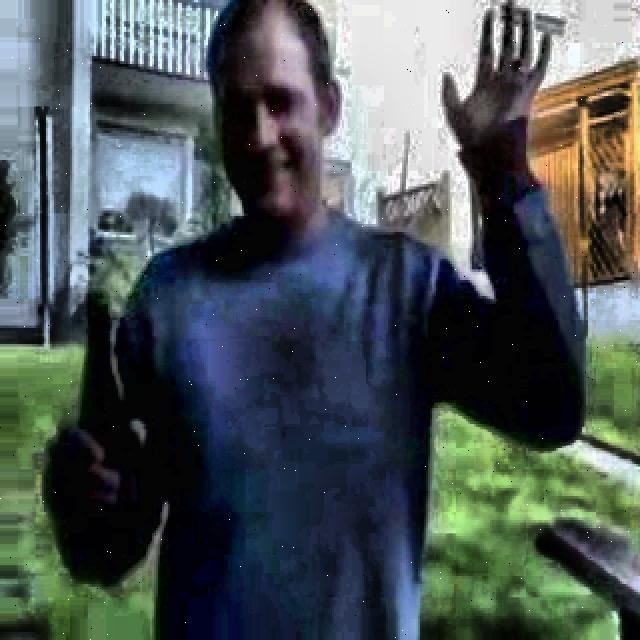L: (42, 5, 583, 637)
